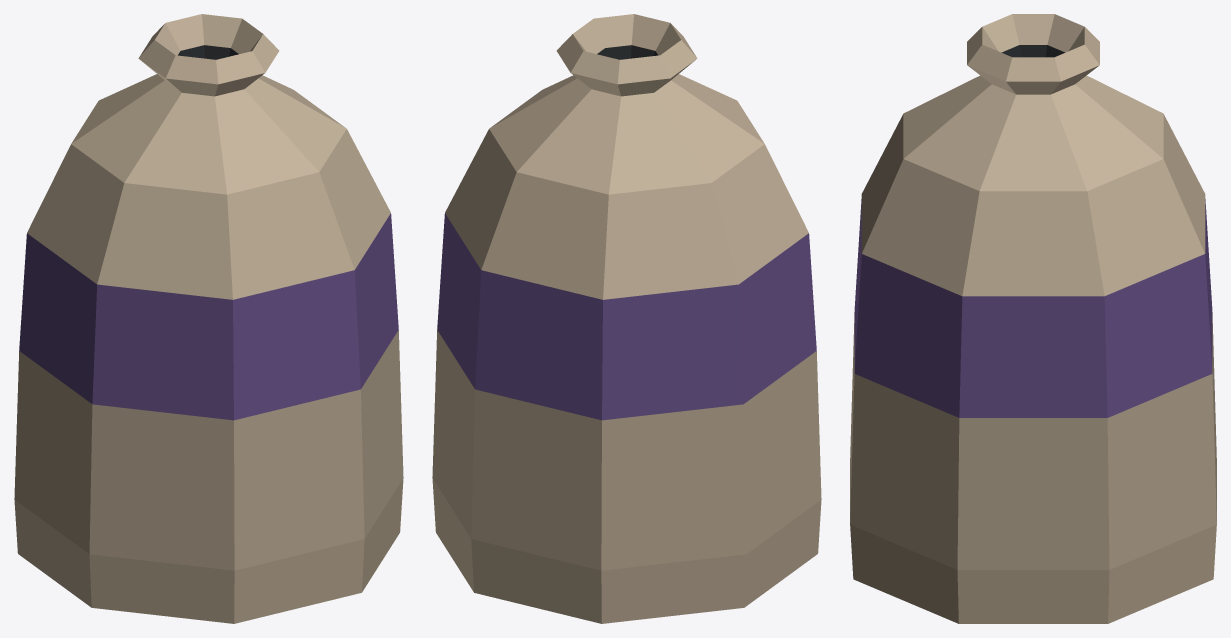
File: SM_Prop_Vase_06.glb
The picture shows the model from 3 angles, left to right: view 1: azimuth 30°, elevation 25°; view 2: azimuth 150°, elevation 25°; view 3: azimuth 270°, elevation 25°; orthographic projection.
Visible parts, largest first — view 1: SM_Prop_Vase_06; view 2: SM_Prop_Vase_06; view 3: SM_Prop_Vase_06.
Part boxes in pixels (<box>): SM_Prop_Vase_06: <box>14,14,403,623</box>; SM_Prop_Vase_06: <box>432,14,821,623</box>; SM_Prop_Vase_06: <box>850,14,1216,623</box>.
Size of the model in its own units: 0.4475 by 0.6894 by 0.4475.
1 material, 1 textured.
